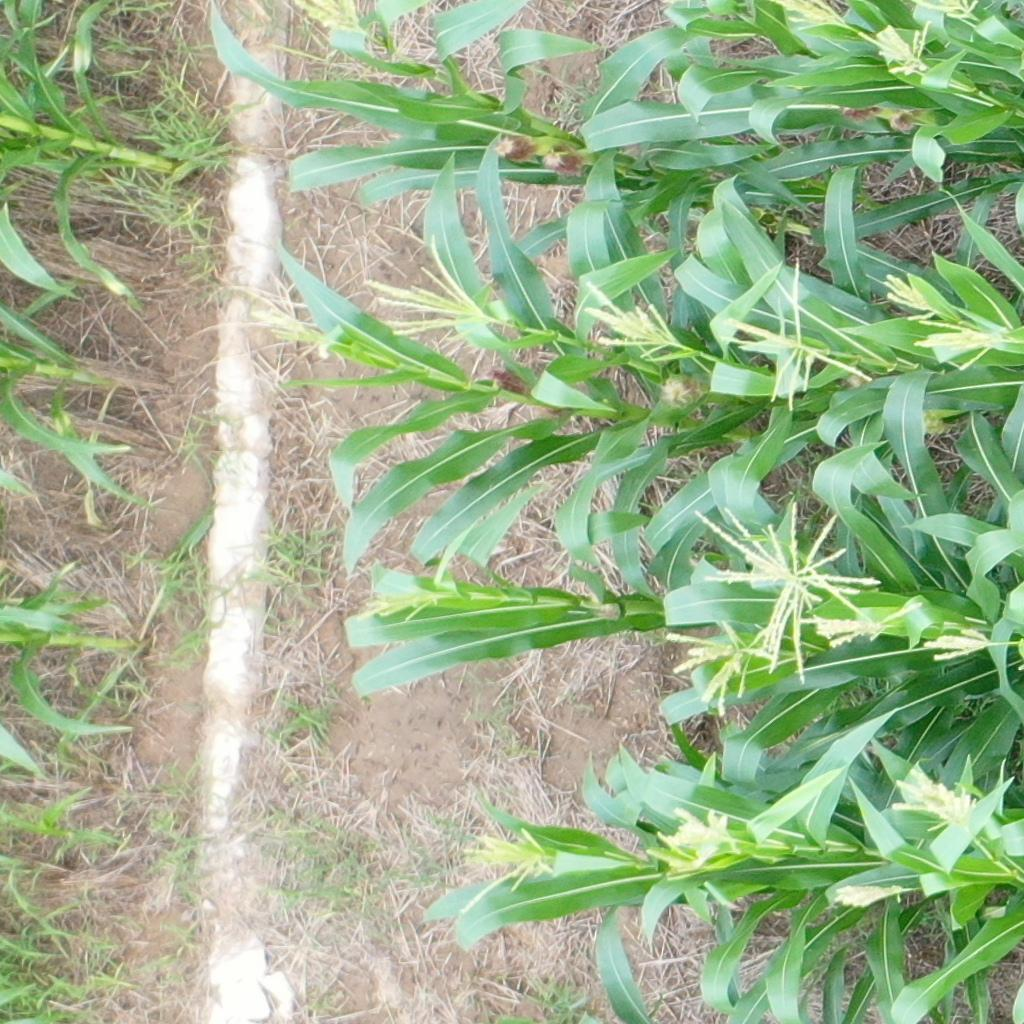Tassel: (686, 503, 885, 683), (722, 253, 877, 411), (366, 237, 501, 350), (656, 618, 779, 720), (445, 822, 563, 920), (581, 279, 688, 358), (882, 759, 983, 835), (341, 575, 456, 631), (246, 295, 334, 360), (855, 13, 936, 83), (911, 317, 1010, 369), (670, 802, 743, 863), (807, 604, 893, 653), (639, 831, 703, 885), (829, 880, 914, 919), (920, 626, 1003, 664), (879, 273, 940, 323), (290, 1, 371, 36), (771, 1, 851, 36), (910, 1, 981, 20)
